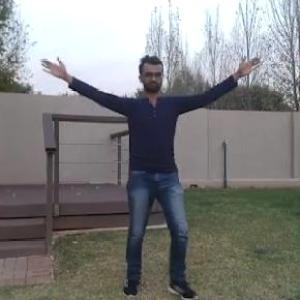takeoff: (33, 58, 242, 294)
